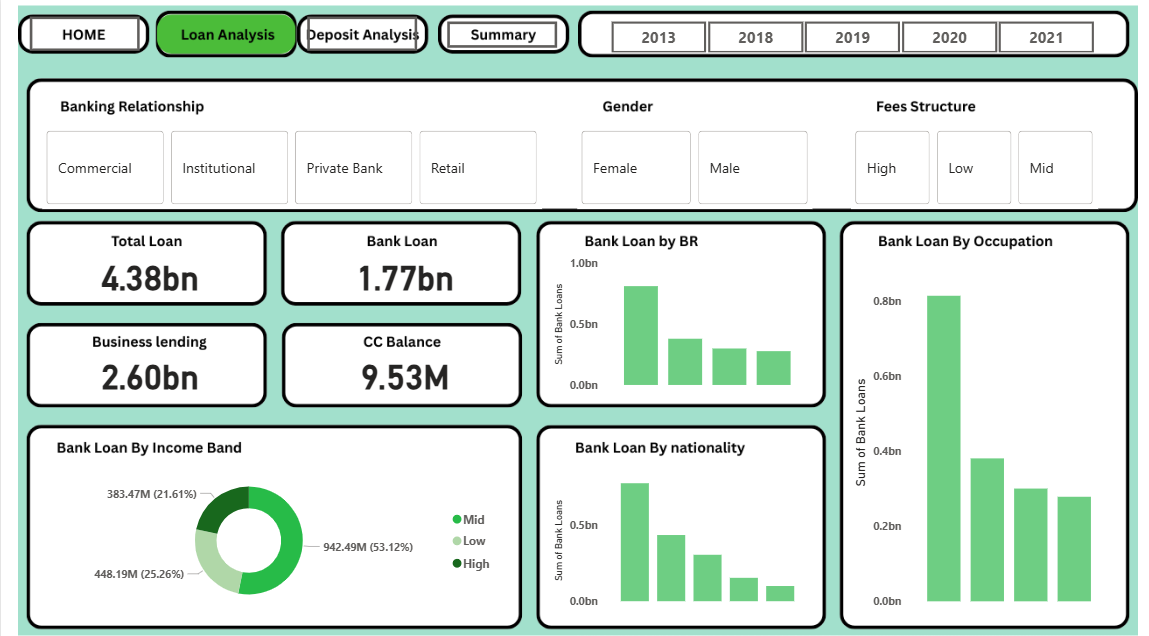

The page's visual inventory and layout, read from the dashboard file:
{"tool":"powerbi","page":{"name":"Loan Analysis","canvas":[1318,752],"ordinal":1},"visuals":[{"type":"slicer","fields":{"Values":["banking_case customer.Year of Joining"]},"box":[671.2,24,601.9,42.4],"z":0},{"type":"card","fields":{"Values":["banking_case customer.Total loan"]},"box":[83.4,293.9,175.2,53.7],"z":1000},{"type":"card","fields":{"Values":["Sum(banking_case customer.Bank Loans)"]},"box":[374.4,293.9,175.2,53.7],"z":2000},{"type":"card","fields":{"Values":["Sum(banking_case customer.Business Lending)"]},"box":[83.4,406.9,175.2,53.7],"z":3000},{"type":"card","fields":{"Values":["Sum(banking_case customer.Credit Card Balance)"]},"box":[374.4,406.9,175.2,53.7],"z":4000},{"type":"donutChart","fields":{"Y":["Sum(banking_case customer.Bank Loans)"],"Category":["banking_case customer.Income Band"]},"box":[46.6,541.2,525.6,166.7],"z":5000},{"type":"clusteredColumnChart","fields":{"Category":["banking_case customer.BRId"],"Y":["Sum(banking_case customer.Bank Loans)"]},"box":[627.4,293.9,302.4,166.7],"z":6000},{"type":"clusteredColumnChart","fields":{"Category":["banking_case customer.Nationality"],"Y":["Sum(banking_case customer.Bank Loans)"]},"box":[627.4,541.2,302.4,166.7],"z":7000},{"type":"clusteredColumnChart","fields":{"Category":["banking_case customer.BRId"],"Y":["Sum(banking_case customer.Bank Loans)"]},"box":[970.7,293.9,302.4,414],"z":8000},{"type":"advancedSlicerVisual","fields":{"Values":["banking_case customer.BRId"]},"box":[46.6,151.2,570.8,94.7],"z":9000},{"type":"advancedSlicerVisual","fields":{"Values":["banking_case customer.GenderId"]},"box":[658.4,151.2,268.5,94.7],"z":10000},{"type":"advancedSlicerVisual","fields":{"Values":["banking_case customer.Fee Structure"]},"box":[972.1,151.2,282.6,94.7],"z":11000},{"type":"actionButton","box":[33.5,26.3,125.7,39.5],"z":12000},{"type":"actionButton","box":[349.6,26.3,125.7,39.5],"z":13000},{"type":"actionButton","box":[508.9,32.3,125.7,29.9],"z":14000}]}

Visuals, with their boxes on the page's 1318x752 design canvas (x1, y1, x2, y2). These are canvas units, not pixel positions in the 1149x636 screenshot, which may show the page scaled, cropped or inside an application window:
slicer - banking_case customer.Year of Joining: locate(671, 24, 1273, 66)
card - banking_case customer.Total loan: locate(83, 294, 259, 348)
card - Sum(banking_case customer.Bank Loans): locate(374, 294, 550, 348)
card - Sum(banking_case customer.Business Lending): locate(83, 407, 259, 461)
card - Sum(banking_case customer.Credit Card Balance): locate(374, 407, 550, 461)
donutChart - Sum(banking_case customer.Bank Loans) x banking_case customer.Income Band: locate(47, 541, 572, 708)
clusteredColumnChart - banking_case customer.BRId x Sum(banking_case customer.Bank Loans): locate(627, 294, 930, 461)
clusteredColumnChart - banking_case customer.Nationality x Sum(banking_case customer.Bank Loans): locate(627, 541, 930, 708)
clusteredColumnChart - banking_case customer.BRId x Sum(banking_case customer.Bank Loans): locate(971, 294, 1273, 708)
advancedSlicerVisual - banking_case customer.BRId: locate(47, 151, 617, 246)
advancedSlicerVisual - banking_case customer.GenderId: locate(658, 151, 927, 246)
advancedSlicerVisual - banking_case customer.Fee Structure: locate(972, 151, 1255, 246)
actionButton: locate(34, 26, 159, 66)
actionButton: locate(350, 26, 475, 66)
actionButton: locate(509, 32, 635, 62)
